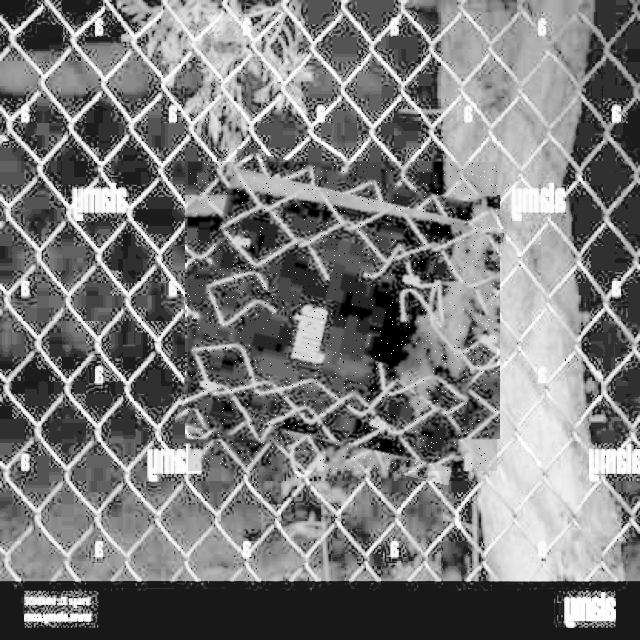anomaly-fence: (188, 162, 497, 471)
